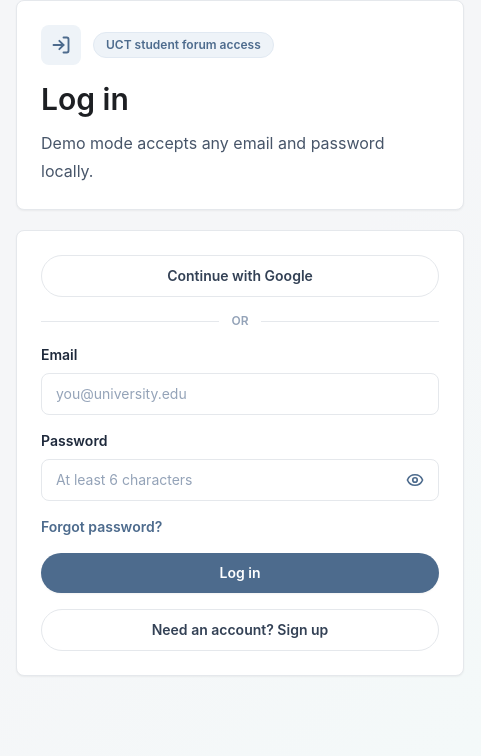
Scenario: AuthPage › shows a clear email format error before submitting login
Type "not-an-email" into the field labelled "Email" at coordinates (240, 394), box [41, 373, 439, 415]
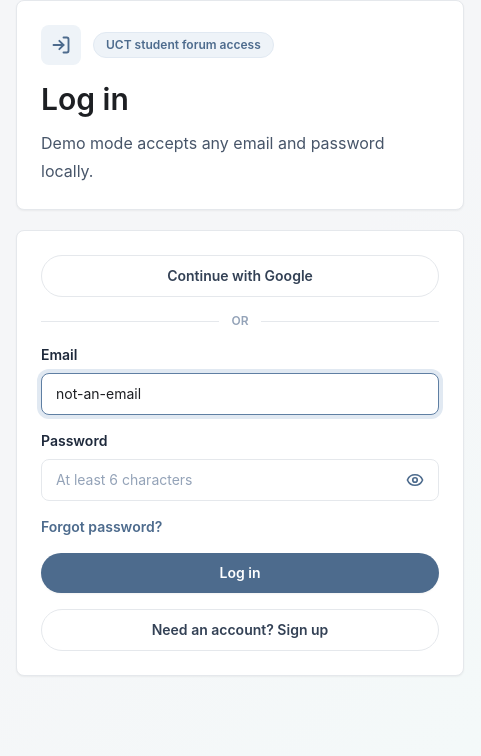
Type "password123" into the password field labelled "Password" at coordinates (240, 480), box [41, 459, 439, 501]
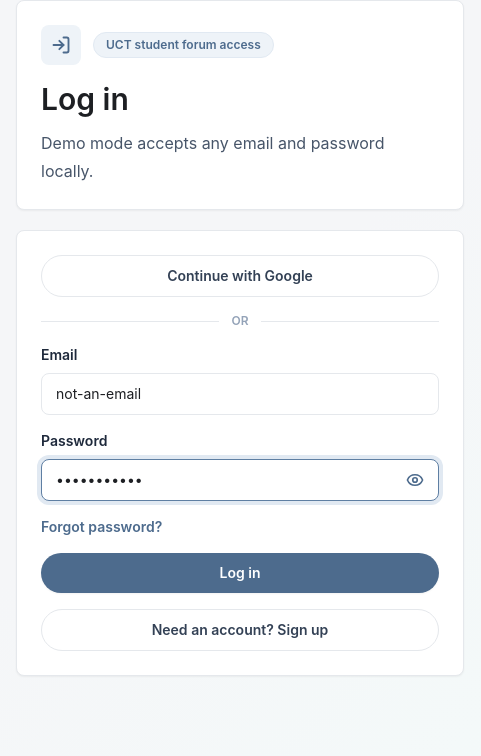
Click the button "Log in" at coordinates (240, 573), box [41, 553, 439, 593]
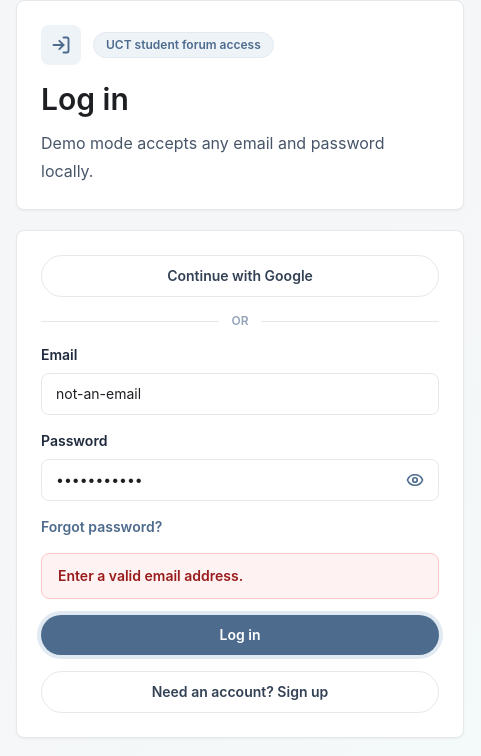
Expected: the text "Enter a valid email address." is shown, [41, 553, 439, 599]
